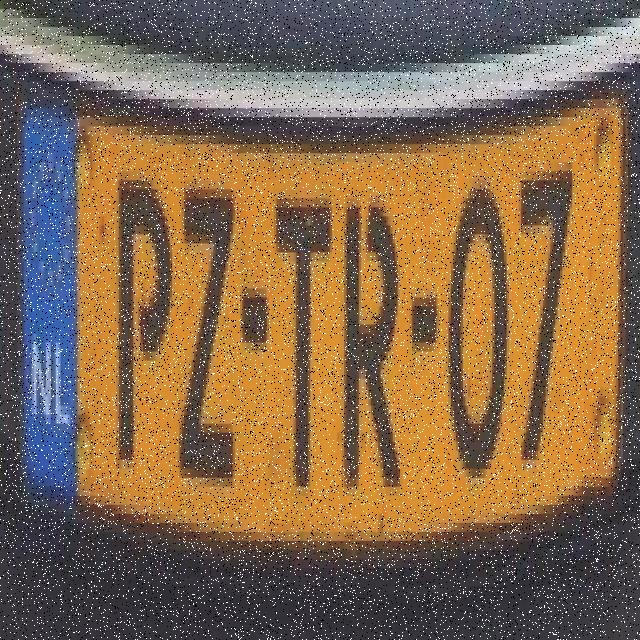licenseplate: (9, 36, 634, 572)
